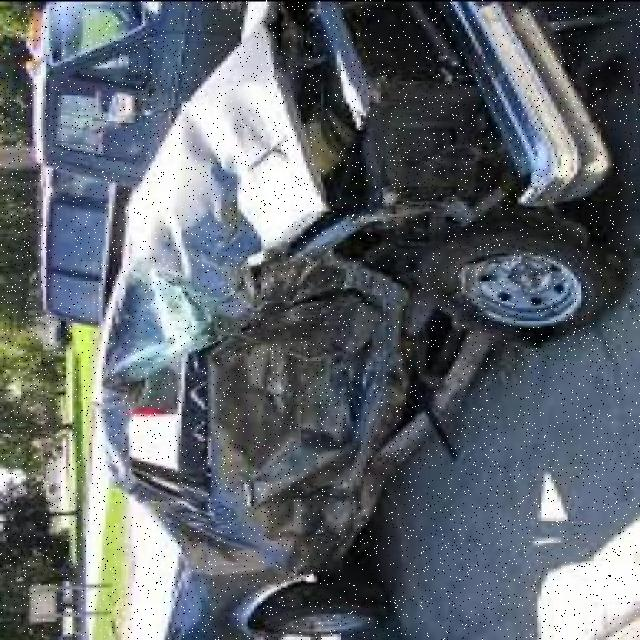damage: (95, 0, 557, 598)
